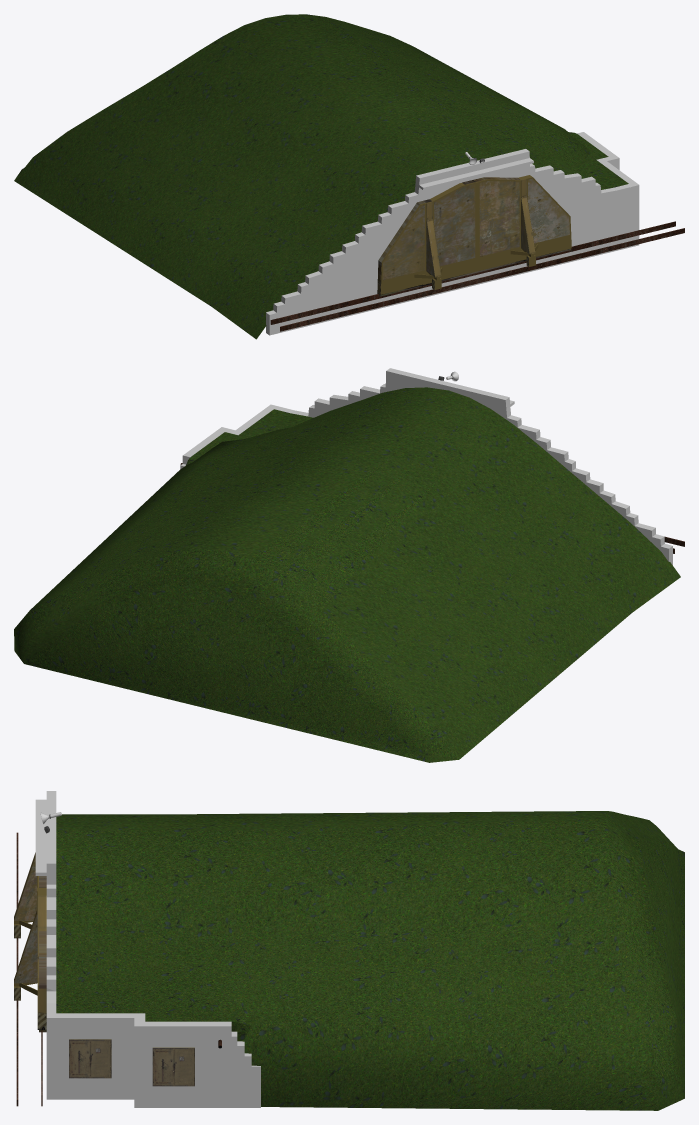
Rendered from edcd-shelter_LOD00.gltf.
3 views of the same model, one above another, from view 1: azimuth 30°, elevation 25°; view 2: azimuth 150°, elevation 25°; view 3: azimuth 270°, elevation 25° (orthographic). The views are drawn at different scales.
Parts seen in each view (by area): view 1: shelter body outer.001, shelter front bricks.001, shelter gate.001, shelter rails.001, shelter front reference.002; view 2: shelter body outer.001, shelter front bricks.001; view 3: shelter body outer.001, shelter front bricks.001, shelter gate.001, shelter door.002, shelter door.003, shelter rails.001, shelter front reference.002.
Part boxes in pixels (box(x1,y1,x2,y2)): shelter body outer.001: box(14, 14, 590, 339); shelter front bricks.001: box(266, 132, 639, 335); shelter gate.001: box(380, 175, 571, 294); shelter rails.001: box(270, 221, 684, 331); shelter front reference.002: box(377, 177, 570, 296); shelter body outer.001: box(14, 387, 680, 762); shelter front bricks.001: box(180, 368, 672, 565); shelter body outer.001: box(56, 811, 684, 1110); shelter front bricks.001: box(35, 791, 260, 1107); shelter gate.001: box(14, 852, 46, 1029); shelter door.002: box(69, 1039, 111, 1078); shelter door.003: box(152, 1047, 194, 1086); shelter rails.001: box(16, 832, 42, 1106); shelter front reference.002: box(39, 876, 46, 1032).
Size of the model in its own units: 35.18 by 10.38 by 34.8.
